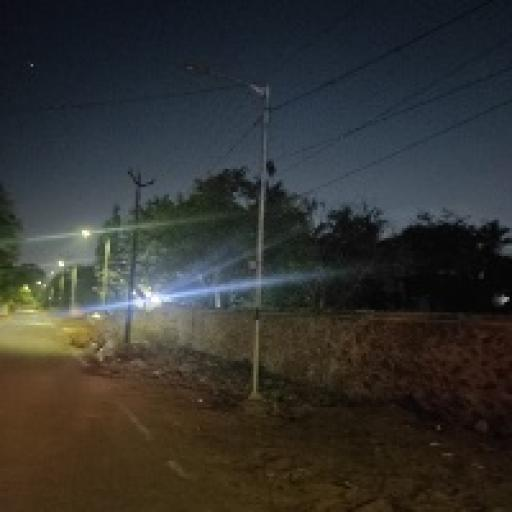Not Working: (174, 55, 213, 84), (120, 164, 138, 182)
Working: (76, 223, 94, 242), (52, 257, 69, 271)
